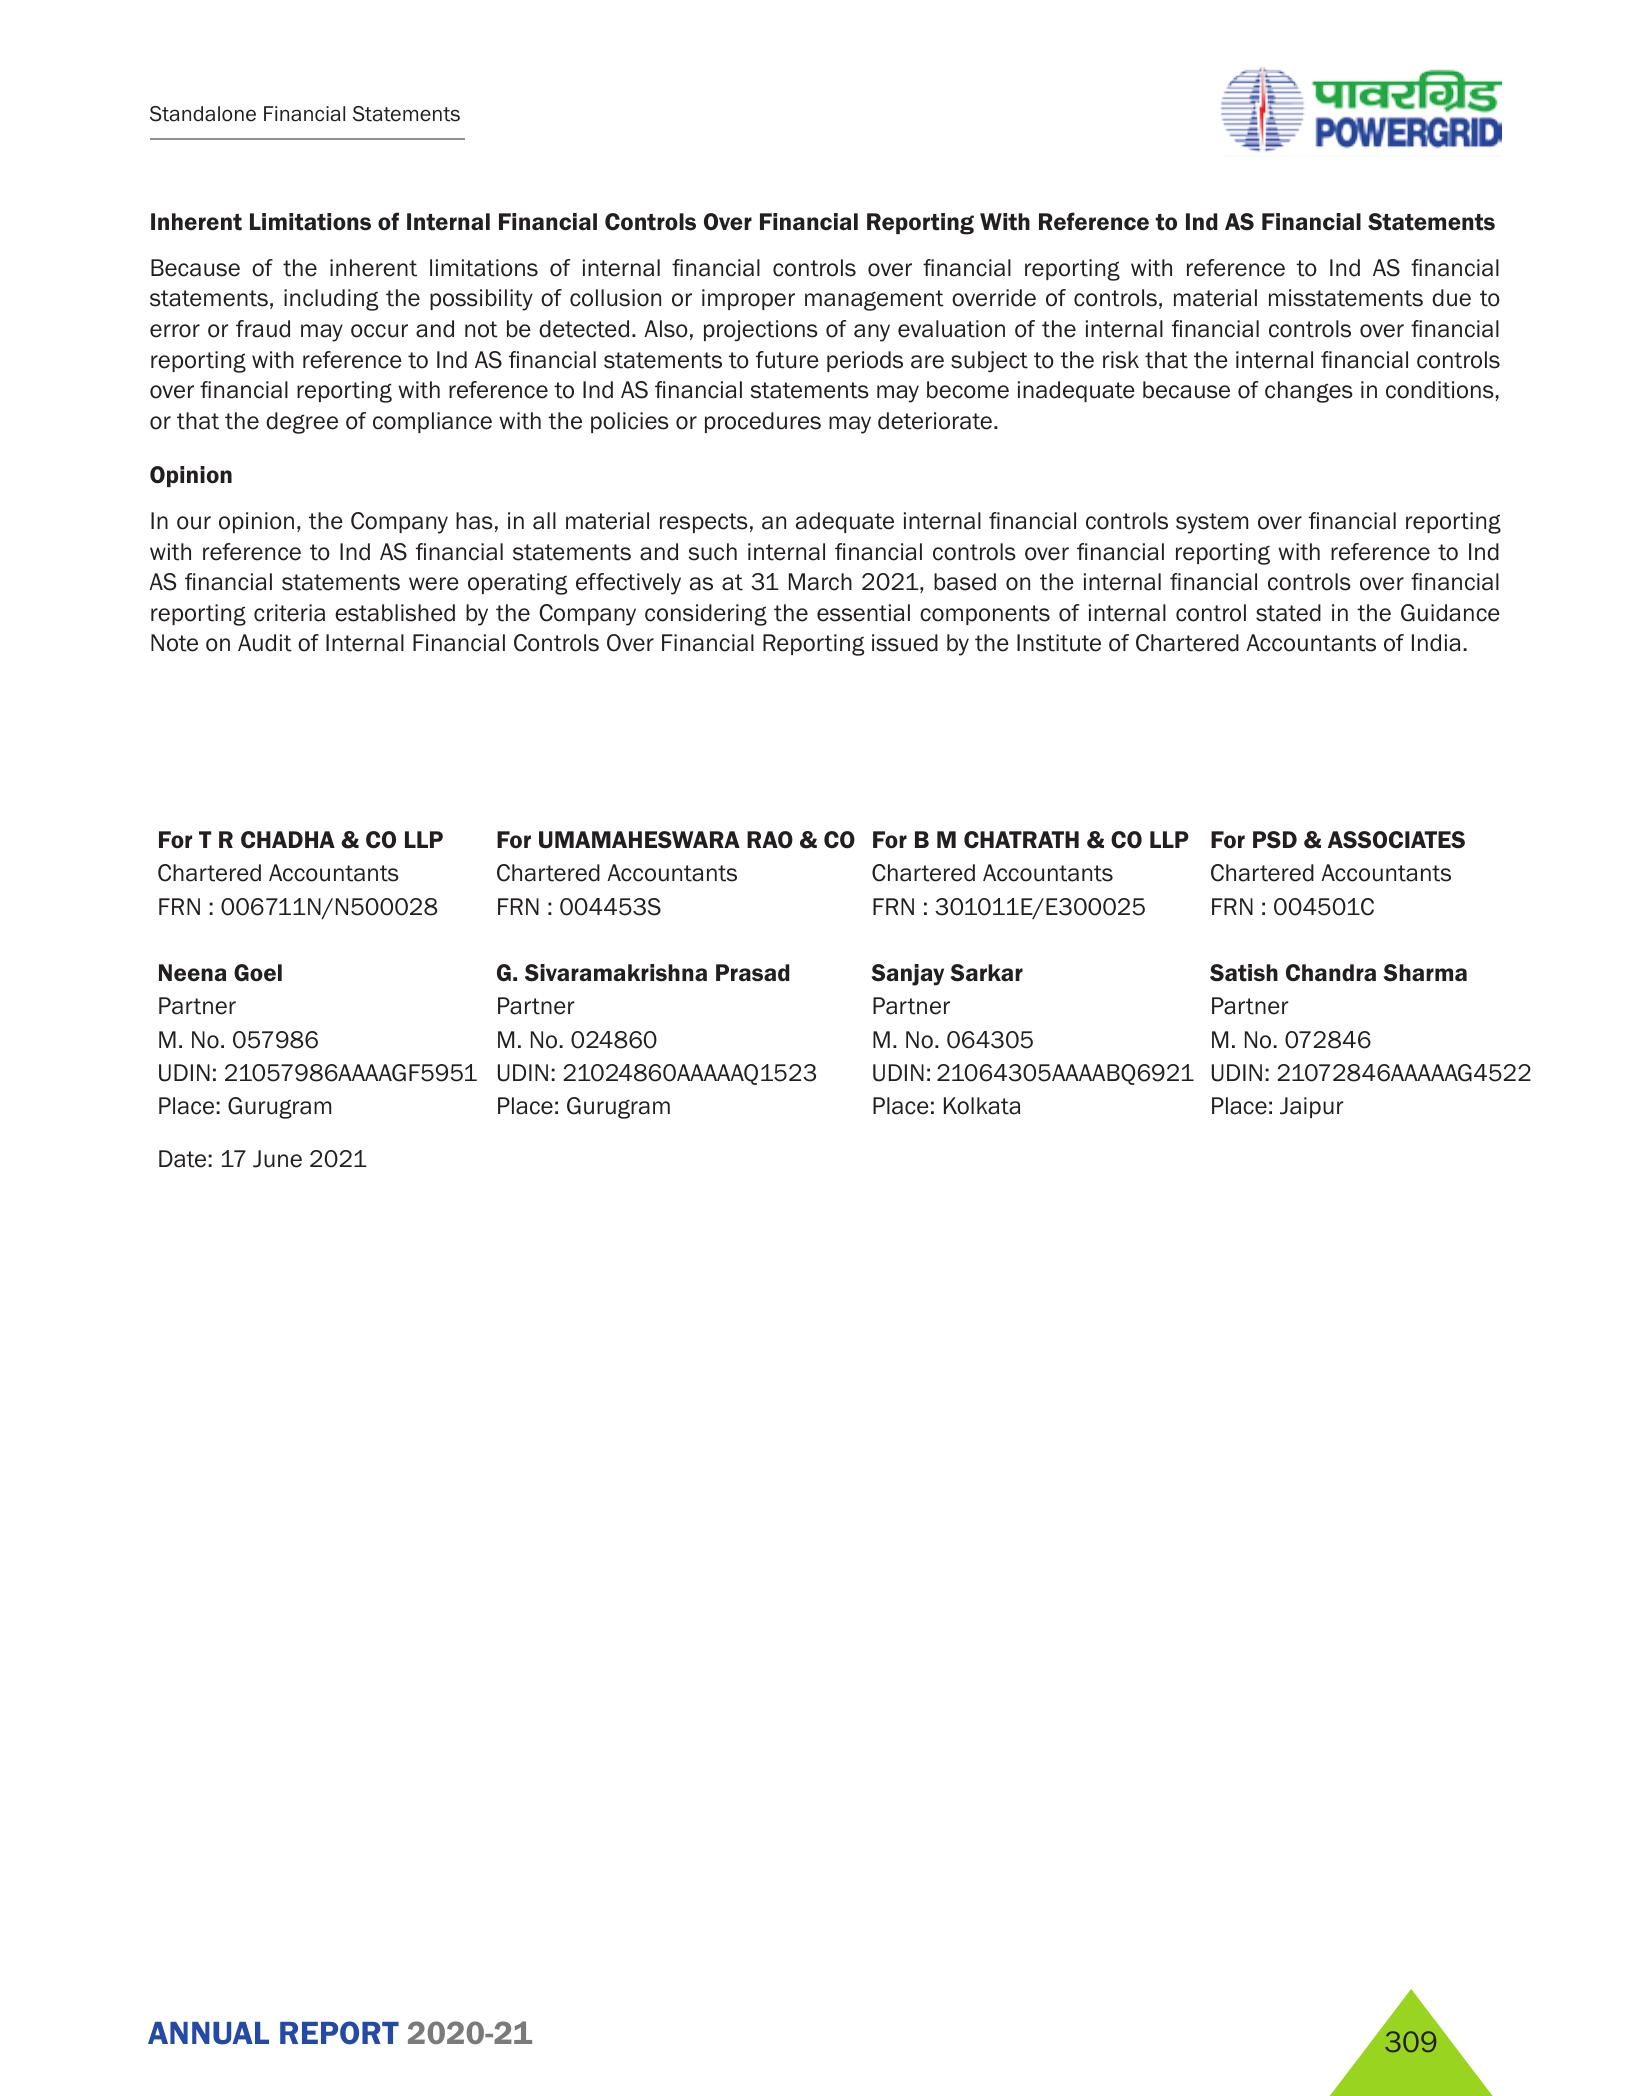Footer: (0, 1941, 1650, 2096)
Header: (0, 0, 1650, 172)
